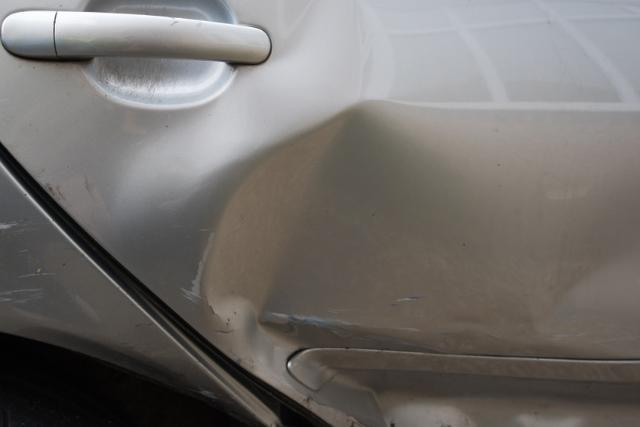Door: (157, 5, 640, 427)
